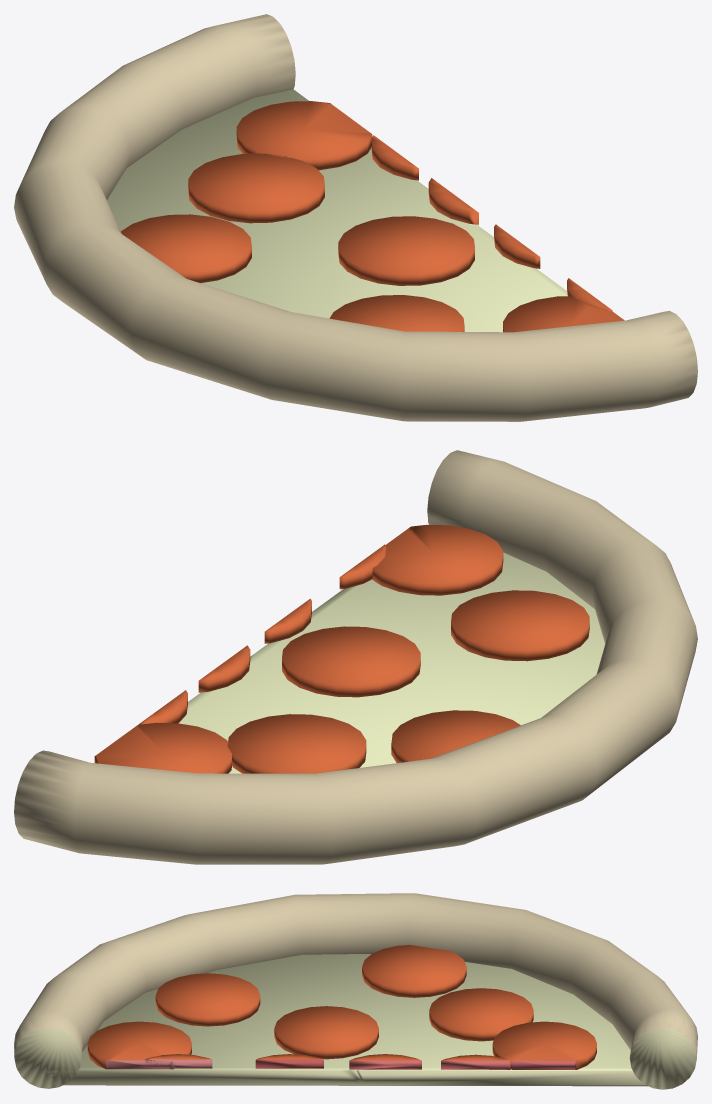
File: pizza_half1.fbx
3 renders of one model, top to bottom at view 1: azimuth 30°, elevation 25°; view 2: azimuth 150°, elevation 25°; view 3: azimuth 270°, elevation 25°, orthographic. The views are drawn at different scales.
Visible parts, largest first — view 1: polySurface27; view 2: polySurface27; view 3: polySurface27.
Boxes of the visible parts, x1=… form: polySurface27: x1=14, y1=14, x2=697, y2=421; polySurface27: x1=14, y1=450, x2=697, y2=864; polySurface27: x1=14, y1=893, x2=697, y2=1089.
Size of the model in its own units: 13.51 by 2.74 by 26.92.
